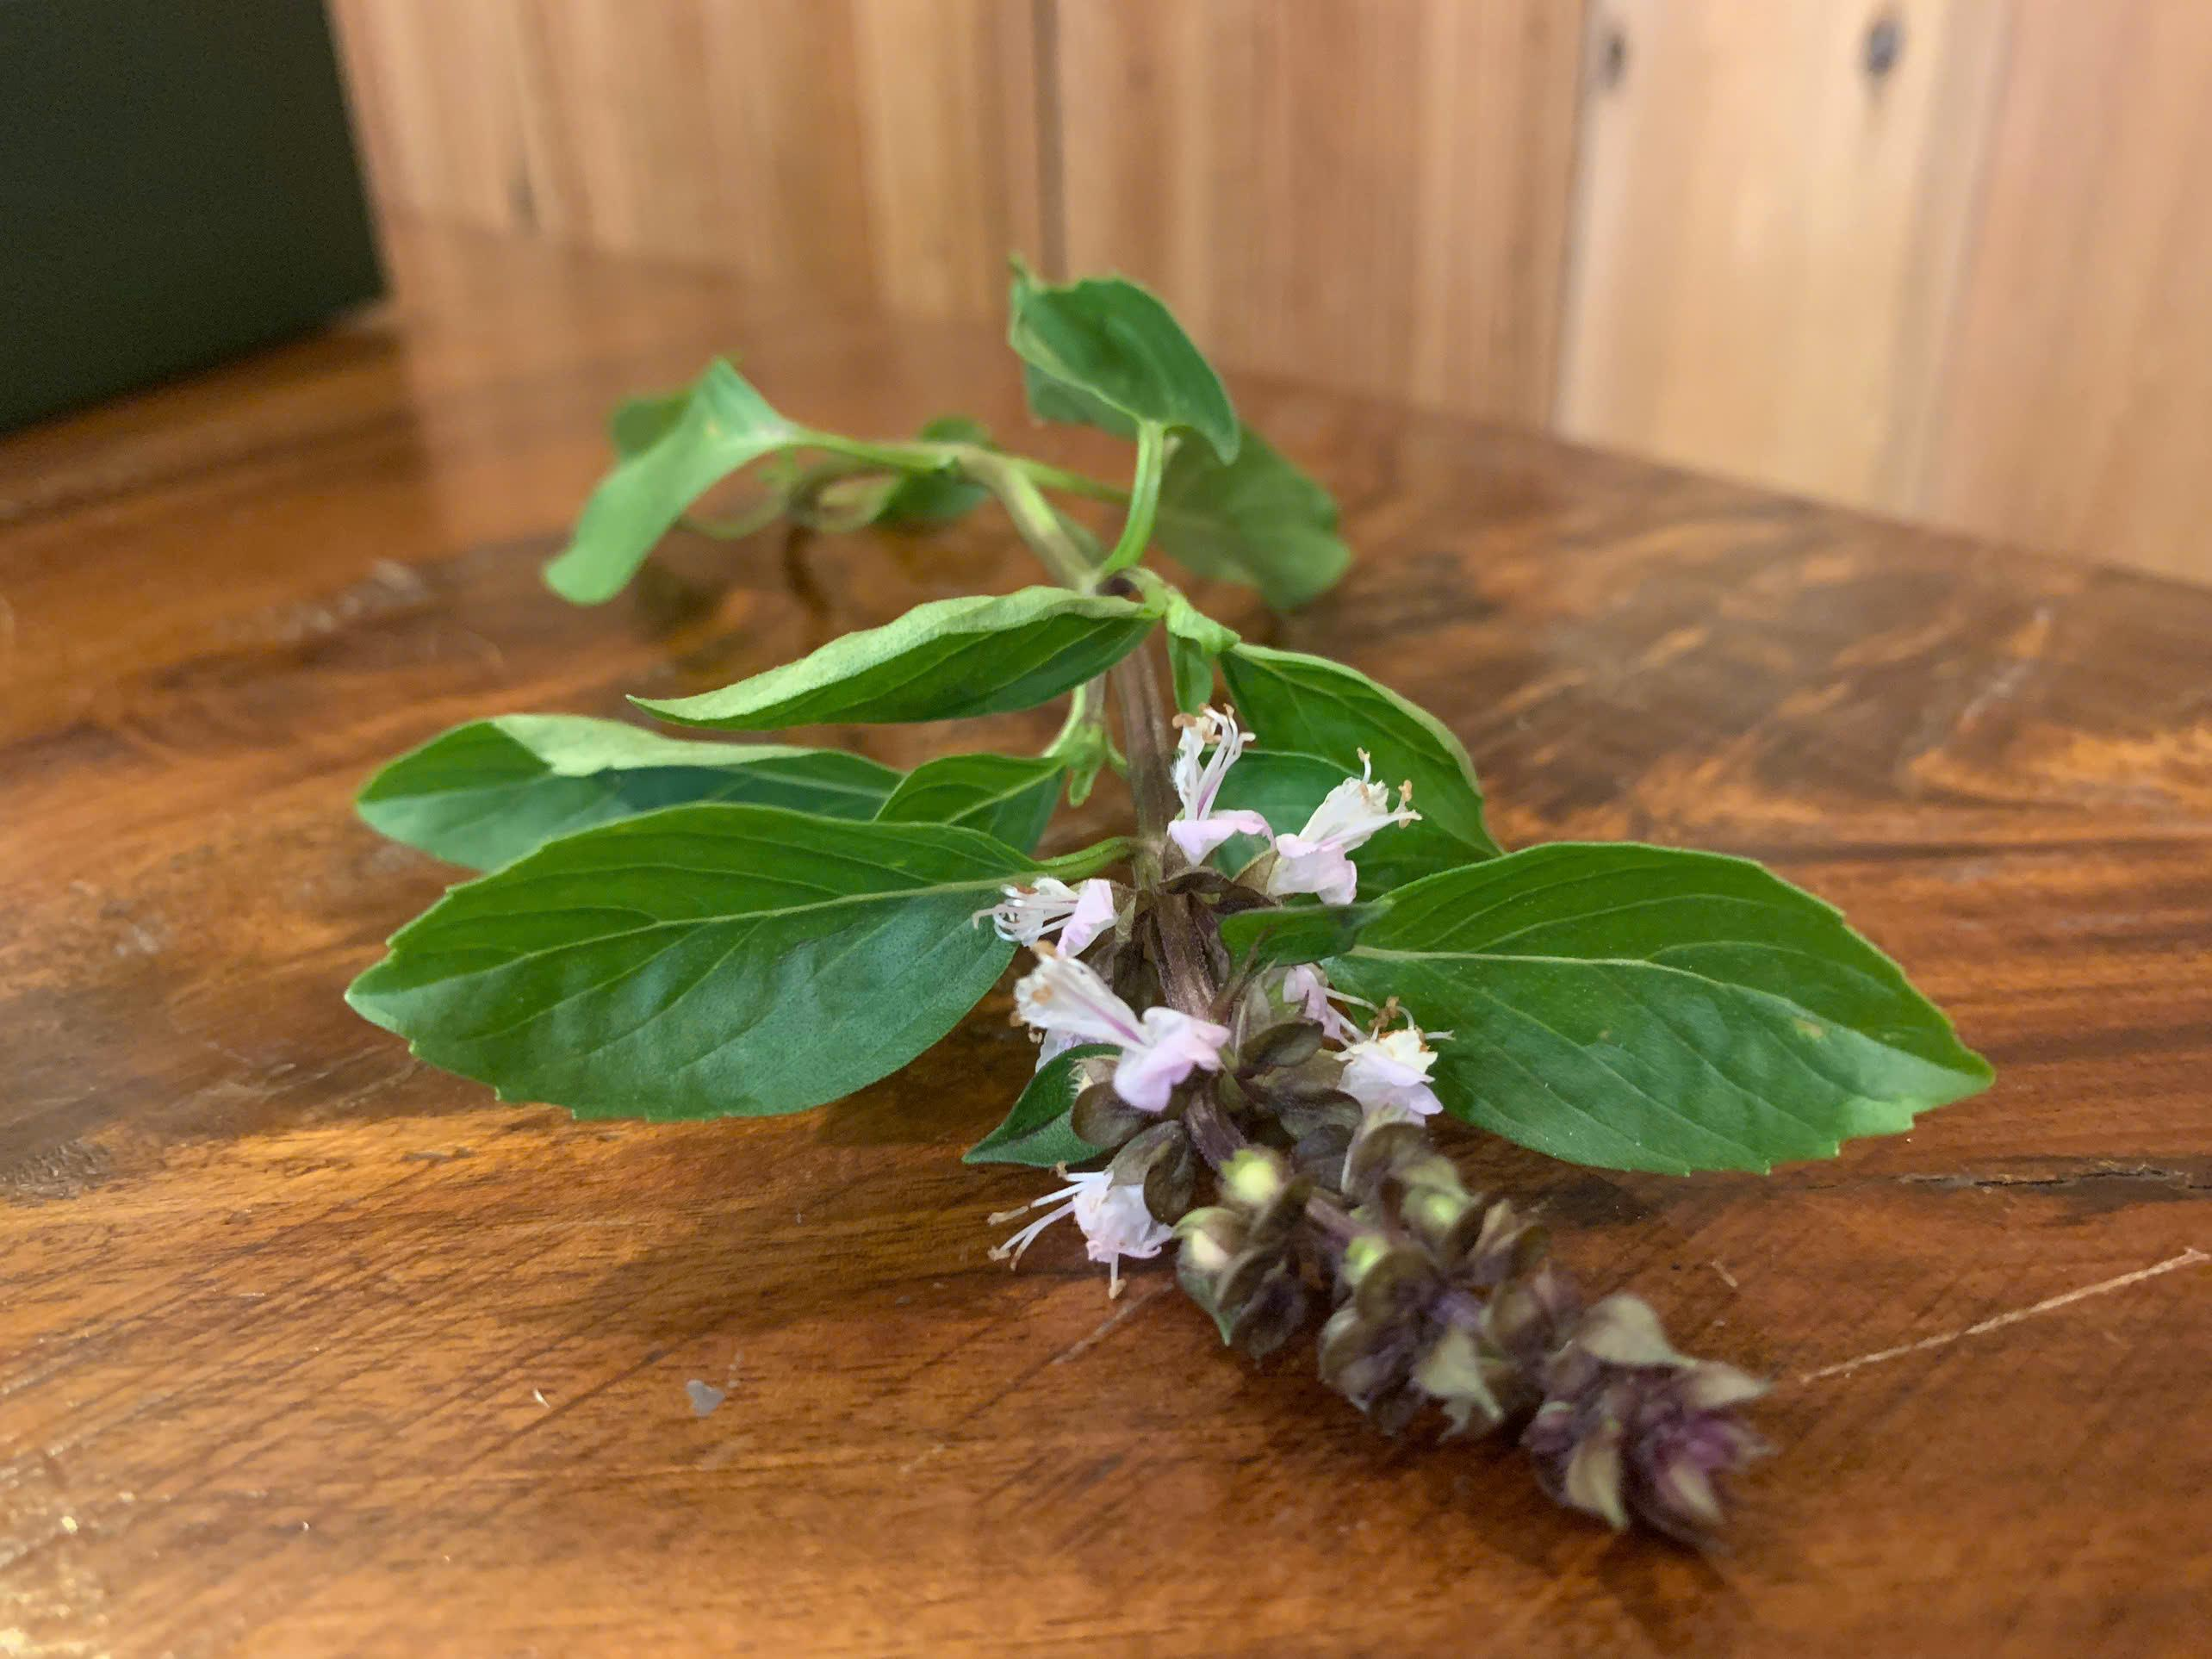Huu co: (347, 296, 2013, 1182)
